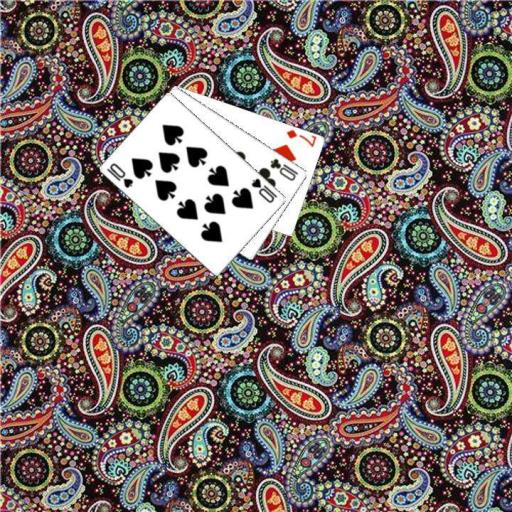card-corner: (248, 175, 279, 205), (104, 159, 135, 189), (267, 155, 300, 182), (283, 126, 318, 148)
